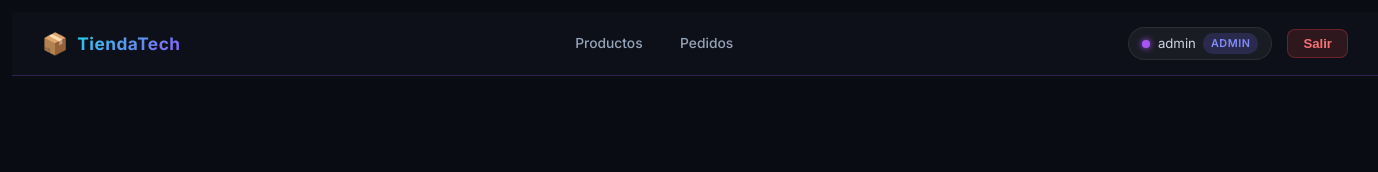
Test: Navbar - Navegacion segun el rol › cerrar sesion limpia el almacenamiento y vuelve a /login
The image size is (1378, 172).
Click the button "Salir" at coordinates (1318, 44), box [1287, 29, 1348, 58]
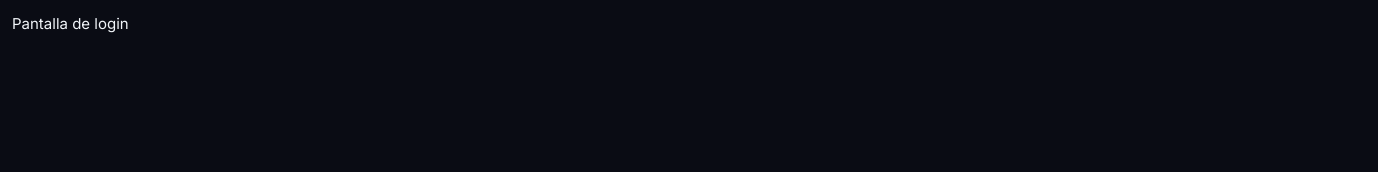
Expected: the text "Pantalla de login" is shown, [12, 14, 129, 33]
